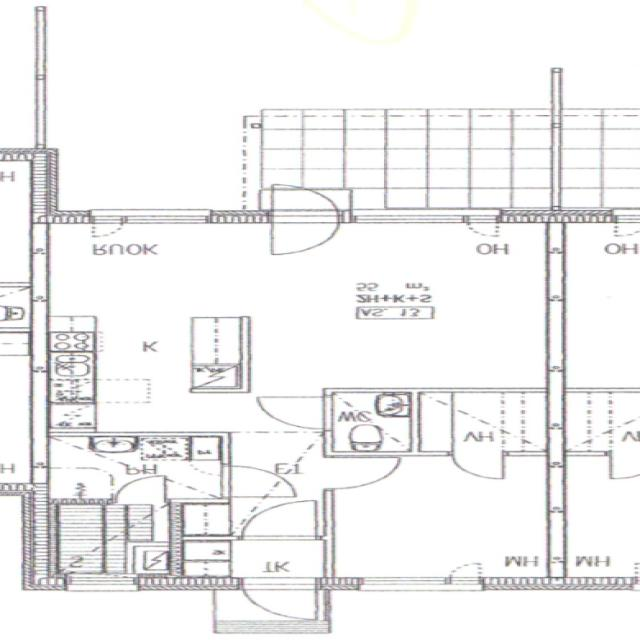door: (245, 577, 318, 626), (270, 174, 340, 222), (270, 208, 340, 256), (243, 500, 316, 540), (322, 458, 398, 490), (258, 397, 333, 429), (219, 465, 293, 496), (454, 451, 505, 482), (116, 473, 166, 502)
